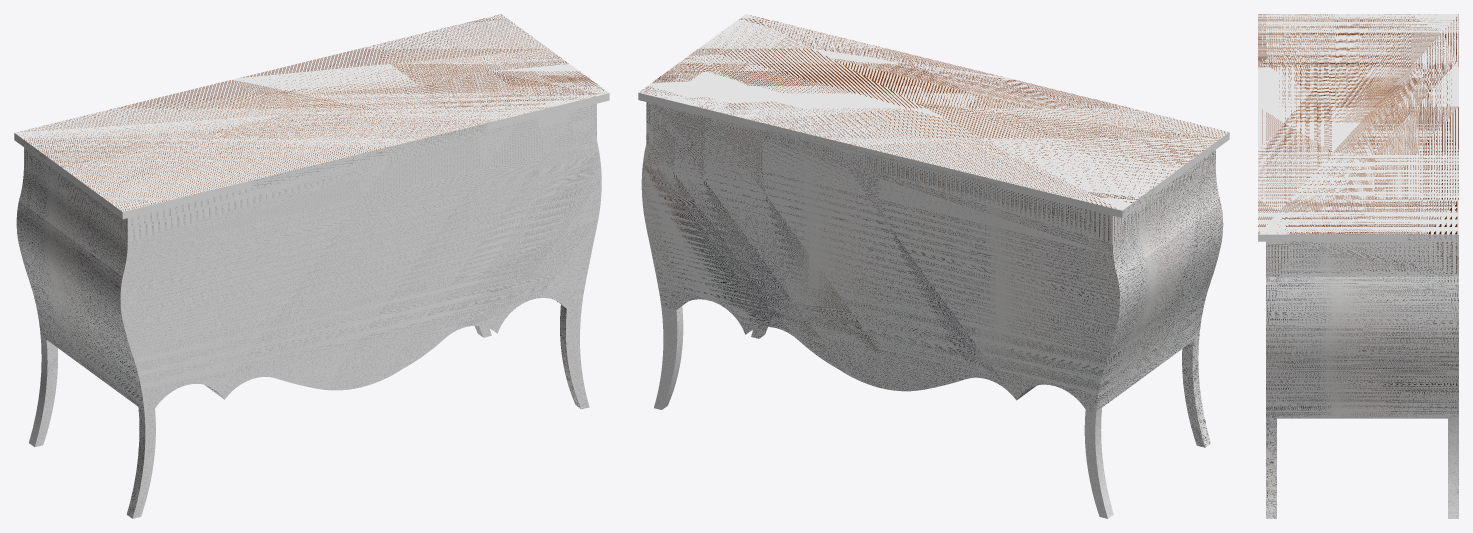
The picture shows the model from 3 angles, left to right: view 1: azimuth 30°, elevation 25°; view 2: azimuth 150°, elevation 25°; view 3: azimuth 270°, elevation 25°; orthographic projection. The views are drawn at different scales.
Parts seen in each view (by area): view 1: mesh1_mesh1-geometry; view 2: mesh1_mesh1-geometry; view 3: mesh1_mesh1-geometry.
Boxes of the visible parts, x1,y1,x2,y2 form: mesh1_mesh1-geometry: (14,14,609,518); mesh1_mesh1-geometry: (638,14,1229,518); mesh1_mesh1-geometry: (1258,14,1458,518).
Bounding box in the file's own units: 0.8093 × 0.4981 × 0.3113.
